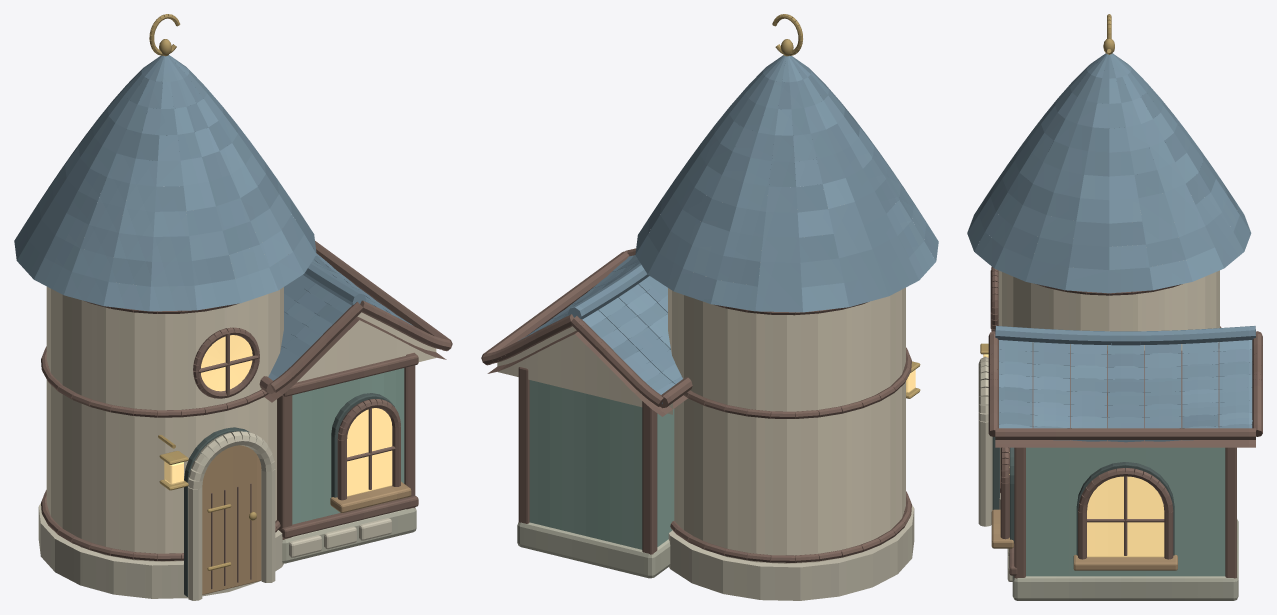
The model's file is village-neighbor2.glb.
The picture shows the model from 3 angles, left to right: view 1: azimuth 30°, elevation 25°; view 2: azimuth 150°, elevation 25°; view 3: azimuth 270°, elevation 25°; orthographic projection. The views are drawn at different scales.
Parts seen in each view (by area): view 1: Forest hamlet; view 2: Forest hamlet; view 3: Forest hamlet.
Boxes of the visible parts, x1,y1,x2,y2 form: Forest hamlet: (14, 14, 452, 600); Forest hamlet: (481, 14, 938, 600); Forest hamlet: (967, 14, 1262, 600).
Bounding box in the file's own units: 4.7 × 6.67 × 3.6.
Materials: 13 (13 with a texture image).
